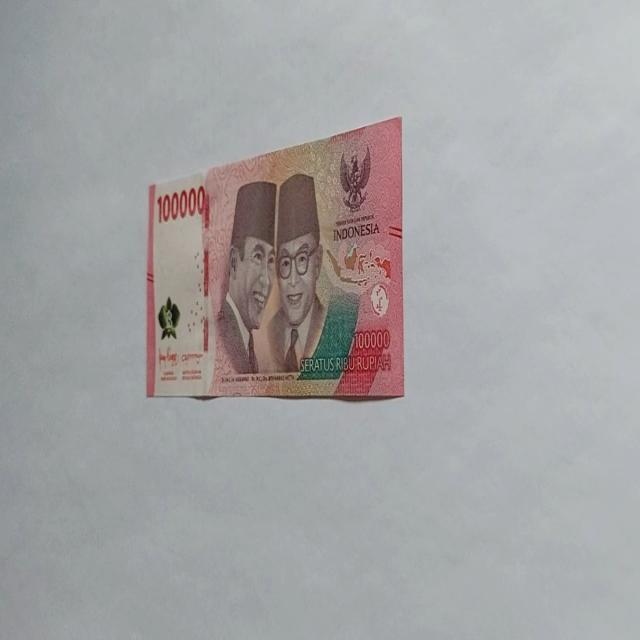seratus ribu rupiah: (145, 116, 405, 402), (210, 172, 360, 392)
